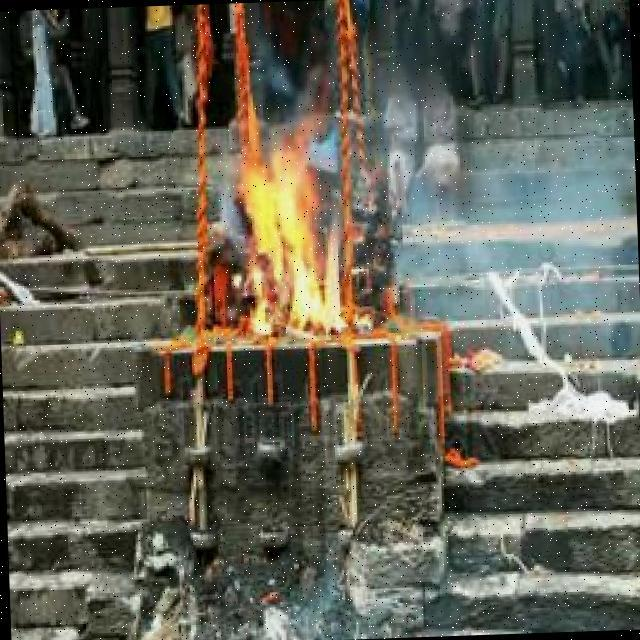Fire: (233, 132, 345, 339)
